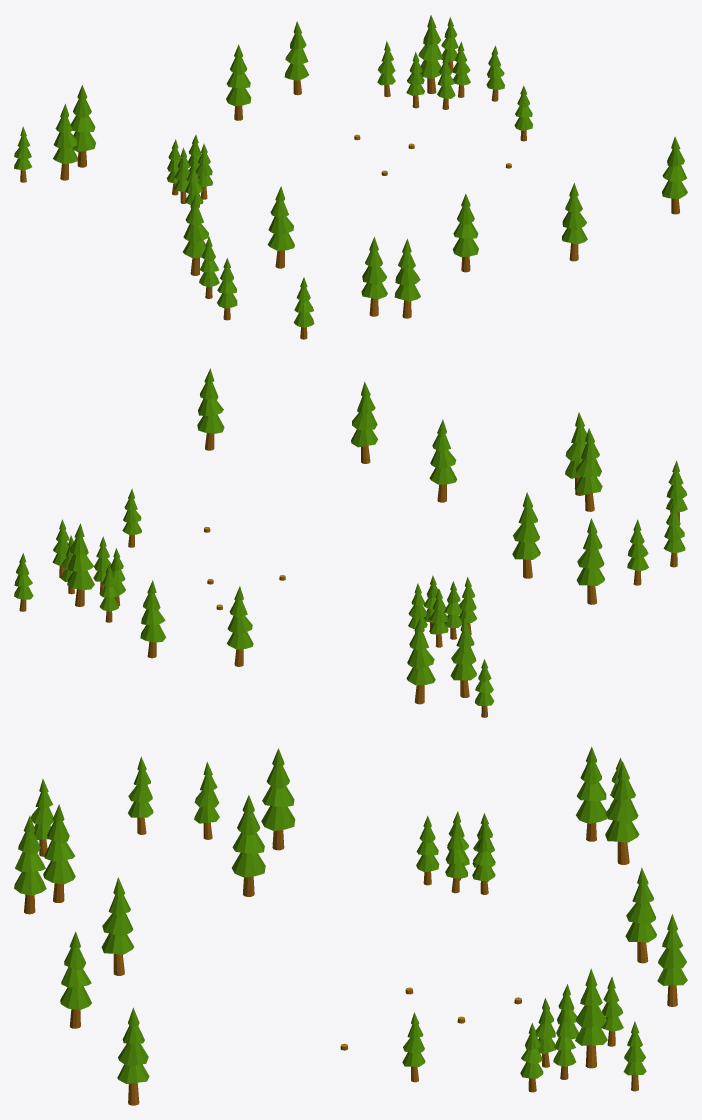
Rendered from pinos.glb.
3 views of the same model, one above another, from view 1: azimuth 30°, elevation 25°; view 2: azimuth 150°, elevation 25°; view 3: azimuth 270°, elevation 25° (orthographic). The views are drawn at different scales.
Visible parts, largest first — view 1: Pinos; view 2: Pinos; view 3: Pinos.
Part boxes in pixels (x1,y1,x2,y2): Pinos: (14,15,687,339); Pinos: (14,368,687,717); Pinos: (14,746,687,1105).
Bounding box in the file's own units: 37.8 × 6.38 × 37.3.
